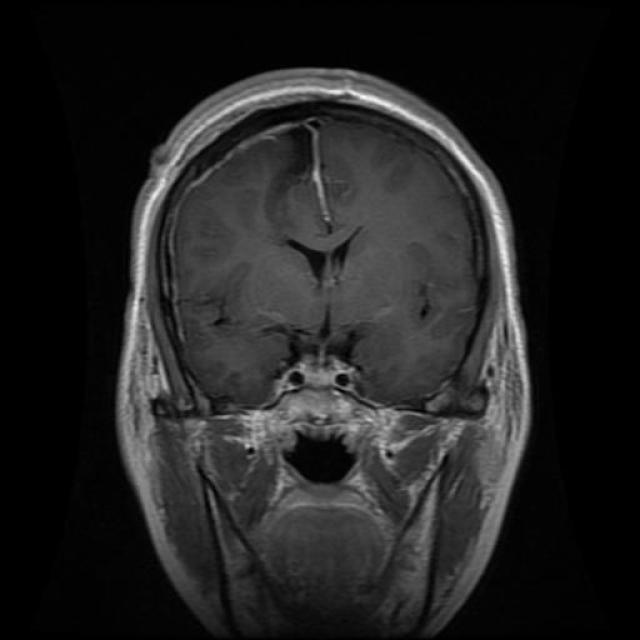glioma: (286, 229, 375, 295)
